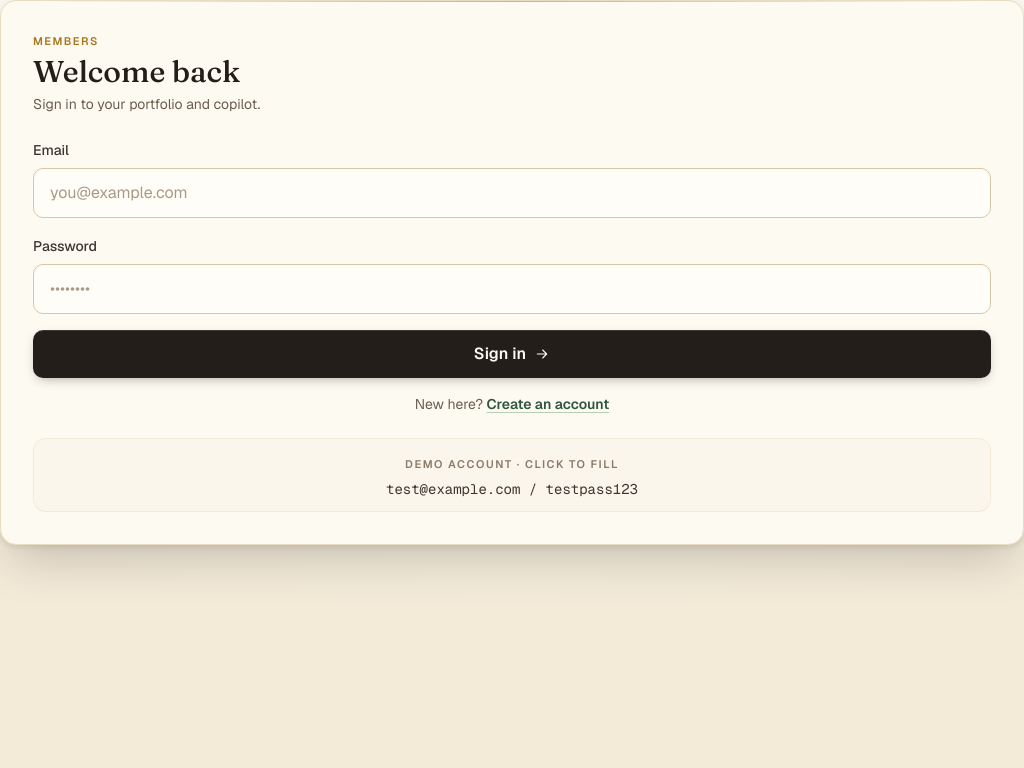
Test: SignInCard › enforces an 8-character minimum password when creating an account
The image size is (1024, 768).
Click the button "Create an account" at (548, 404), box [487,394,609,414]
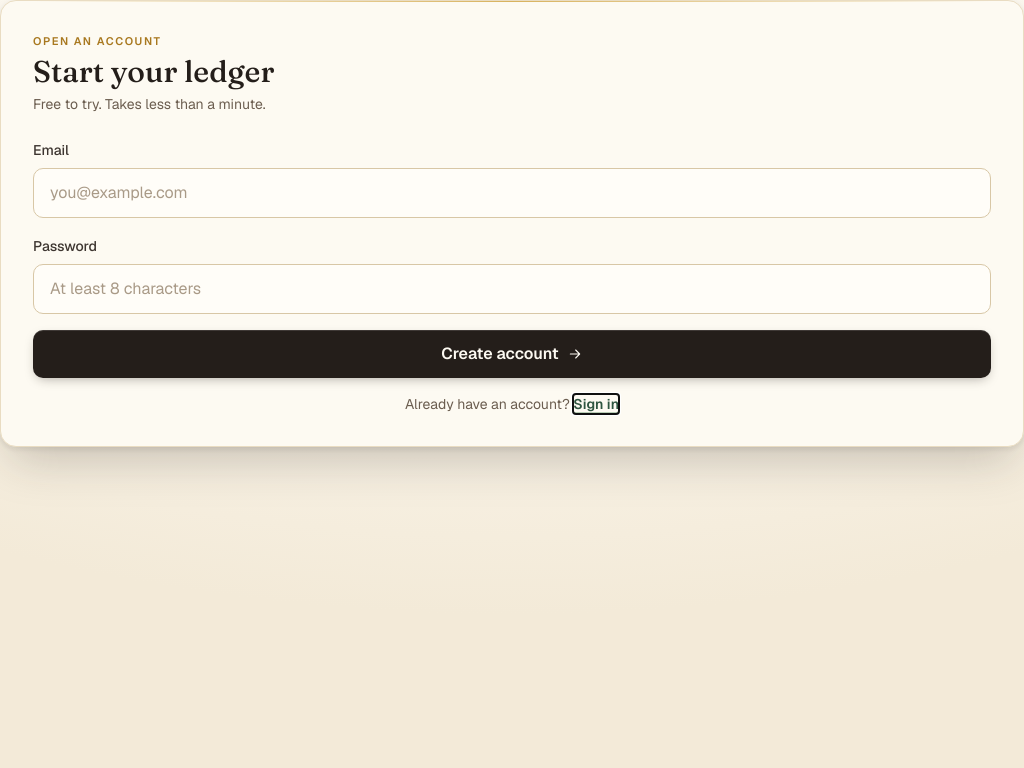
Type "a@b.com" into the field labelled "Email" at (512, 192), box [33,168,991,218]
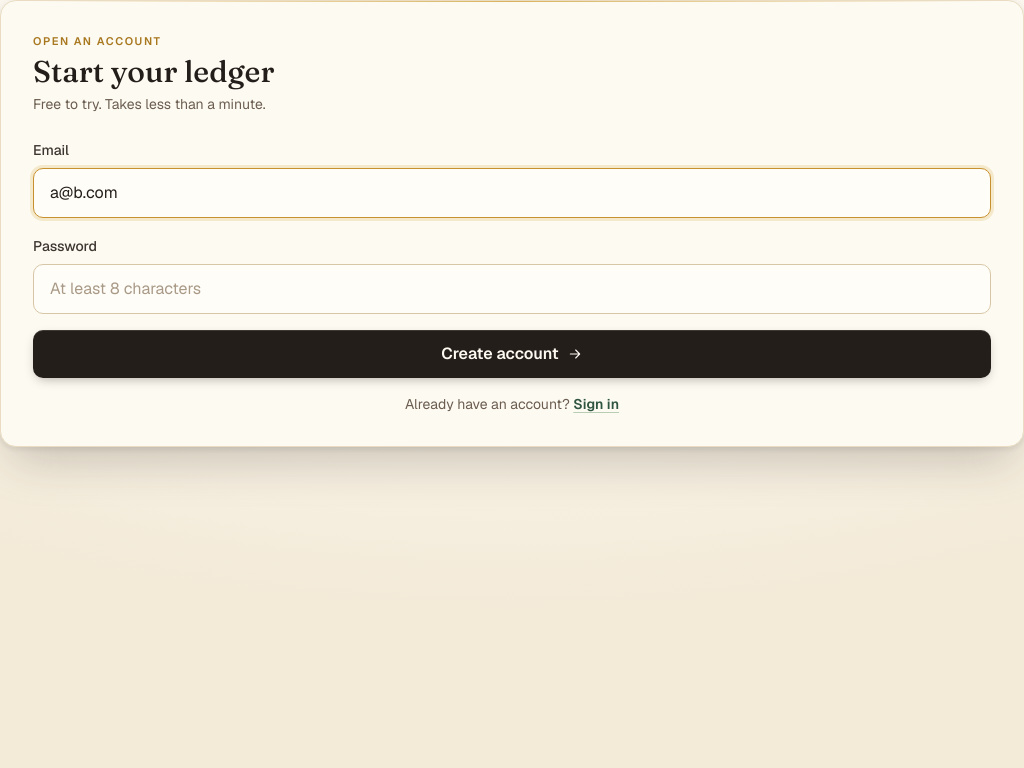
Type "short" into the password field labelled "Password" at (512, 288), box [33,264,991,314]
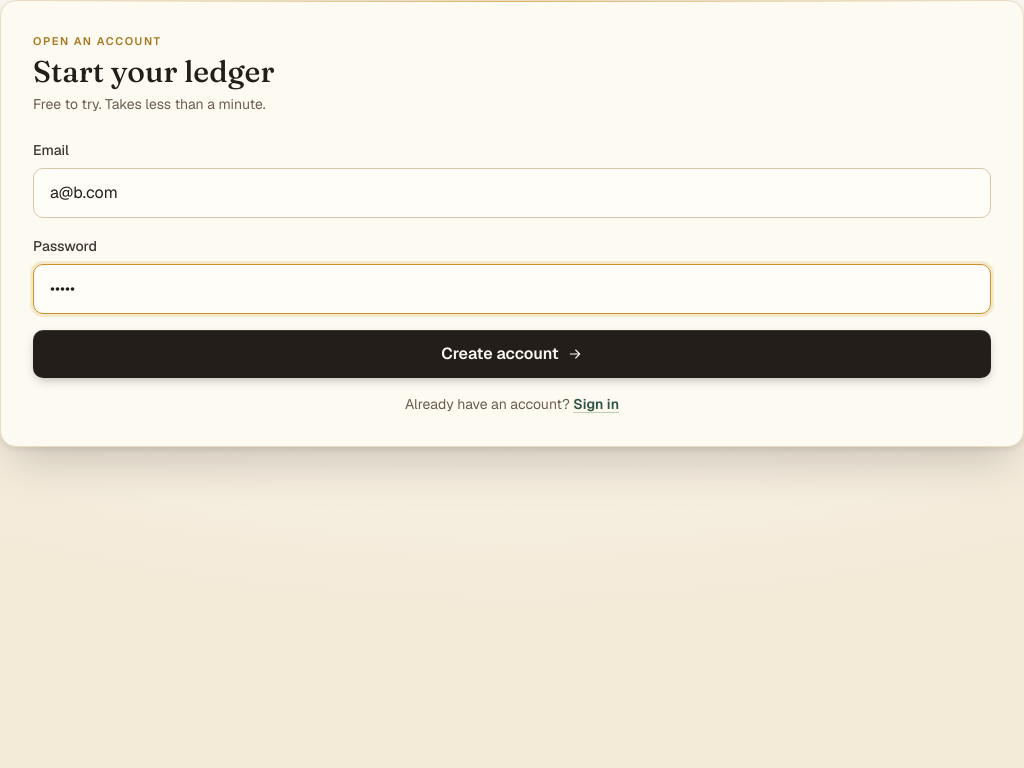
Click the button "Create account" at (512, 354), box [33,330,991,378]
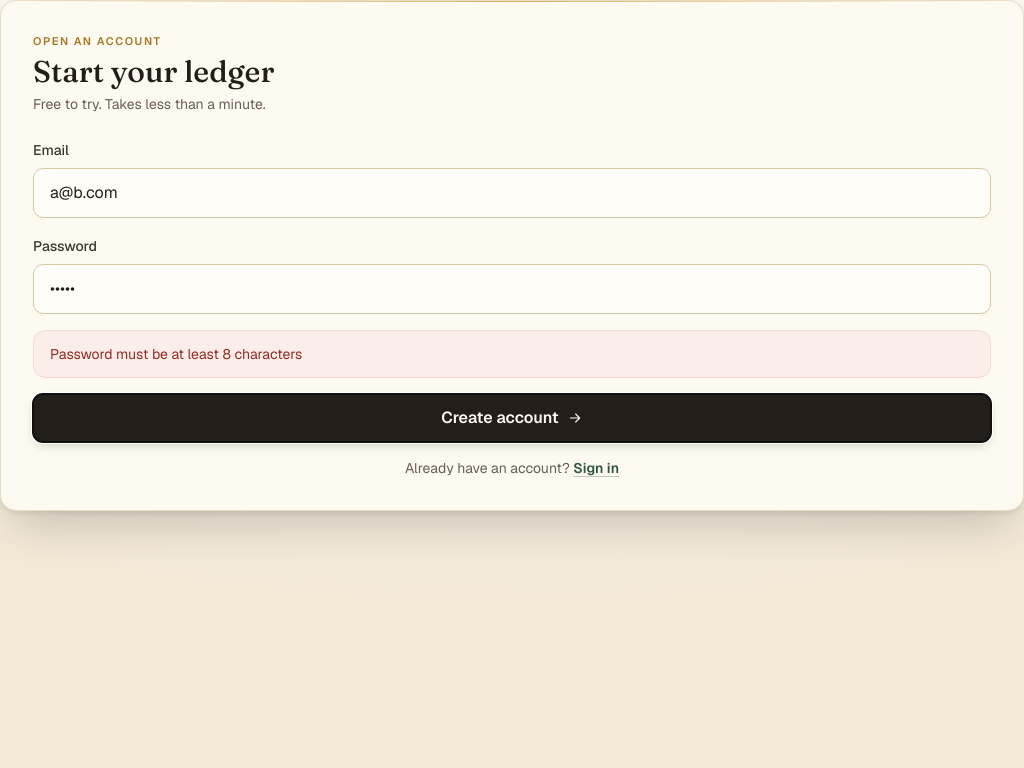
Expected: the text "Password must be at least 8 characters" is shown, [33,330,991,378]
